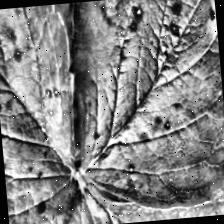Leaf Spot: (66, 0, 224, 216), (0, 3, 89, 224), (44, 166, 224, 224)
